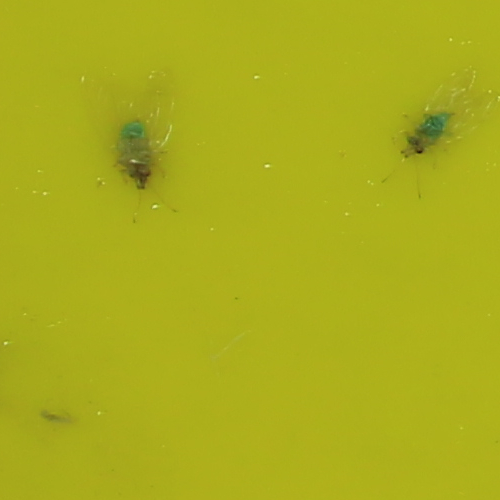Glycaspis: (399, 112, 455, 160), (117, 120, 154, 190)
